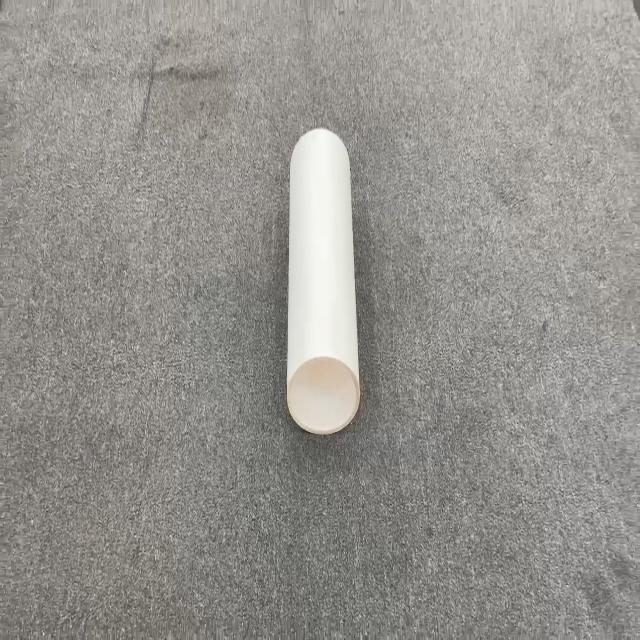coral: (285, 125, 361, 435)
